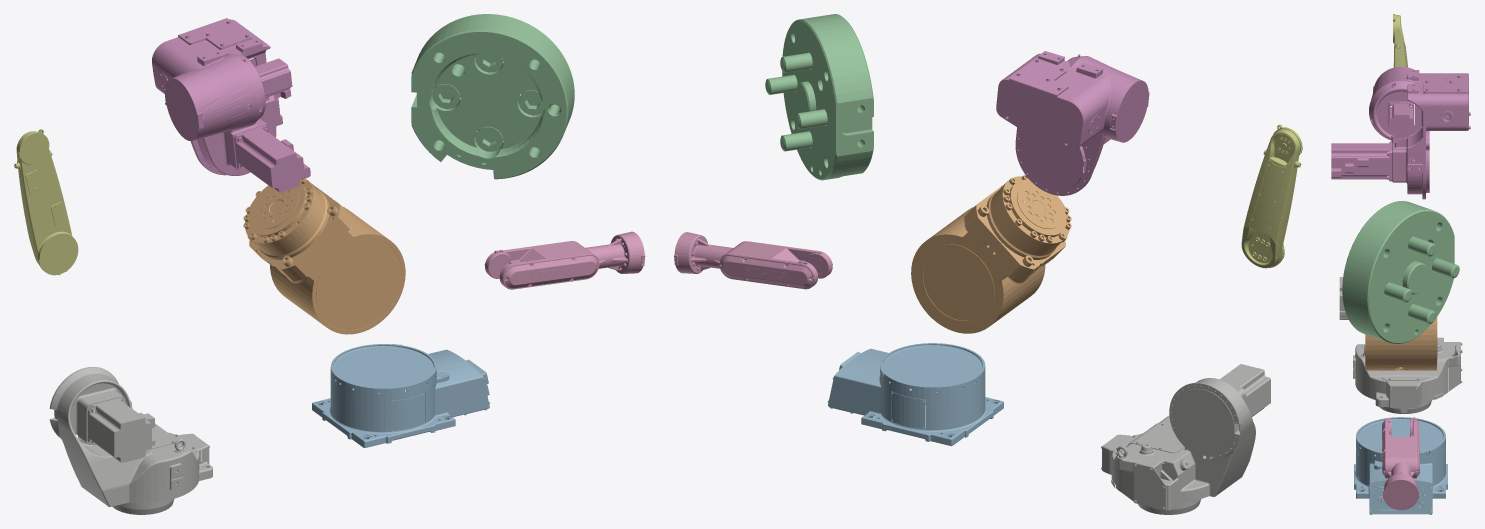
The model's file is 2149_library_parts.glb.
The picture shows the model from 3 angles, left to right: view 1: azimuth 30°, elevation 25°; view 2: azimuth 150°, elevation 25°; view 3: azimuth 270°, elevation 25°; orthographic projection. The views are drawn at different scales.
Parts seen in each view (by area): view 1: lib00004, lib00002, lib00003, lib00005, lib00006, lib00007, lib00001; view 2: lib00003, lib00005, lib00002, lib00004, lib00006, lib00007, lib00001; view 3: lib00004, lib00002, lib00006, lib00005, lib00007, lib00003, lib00001.
Part boxes in pixels (x1,y1,x2,y2): lib00004: (411, 14, 574, 179); lib00002: (152, 18, 310, 192); lib00003: (243, 178, 405, 334); lib00005: (49, 367, 212, 514); lib00006: (312, 344, 489, 447); lib00007: (484, 231, 645, 289); lib00001: (14, 129, 78, 275); lib00003: (911, 174, 1071, 333); lib00005: (1101, 364, 1270, 514); lib00002: (996, 51, 1149, 195); lib00004: (765, 14, 873, 180); lib00006: (827, 343, 1003, 446); lib00007: (674, 232, 832, 289); lib00001: (1241, 124, 1302, 268); lib00004: (1342, 201, 1459, 343); lib00002: (1331, 66, 1470, 199); lib00006: (1354, 417, 1447, 514); lib00005: (1339, 277, 1462, 413); lib00007: (1382, 417, 1419, 510); lib00003: (1365, 317, 1437, 370); lib00001: (1393, 14, 1410, 106).
Size of the model in its own units: 590 by 388 by 135.
